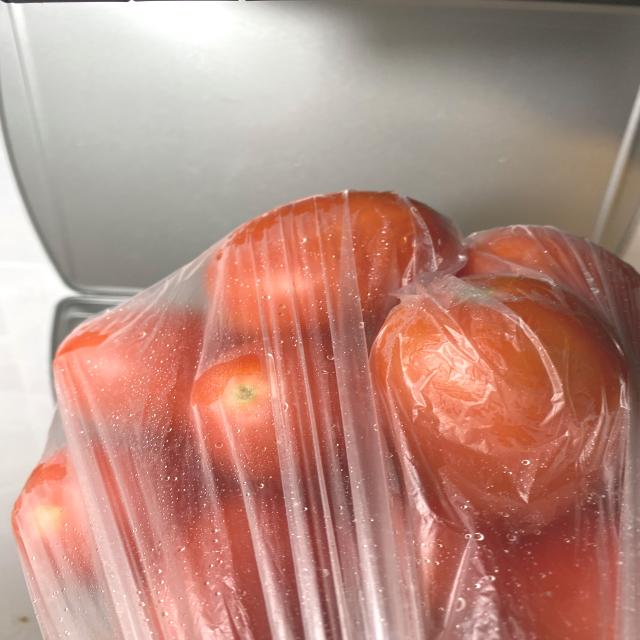tomato: (19, 185, 636, 629)
